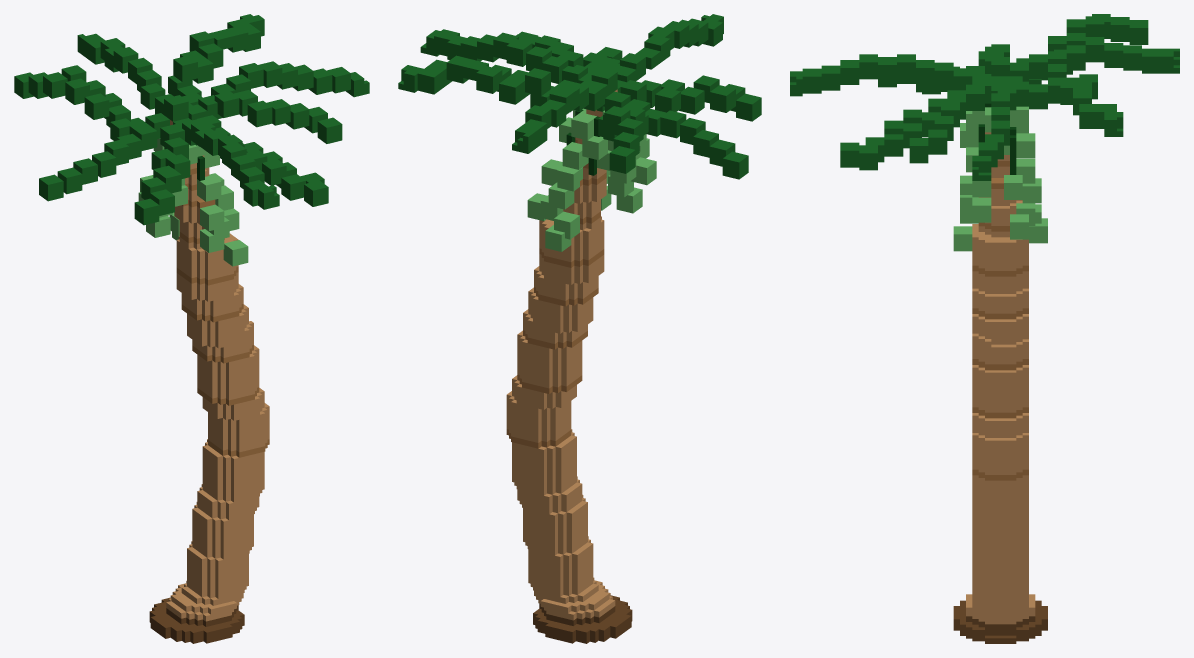
File: 2_1 coco.obj
3 renders of one model, left to right at view 1: azimuth 30°, elevation 25°; view 2: azimuth 150°, elevation 25°; view 3: azimuth 270°, elevation 25°, orthographic. The views are drawn at different scales.
Bounding box in the file's own units: 6 × 10 × 6.2.
Materials: 1 (1 with a texture image).
